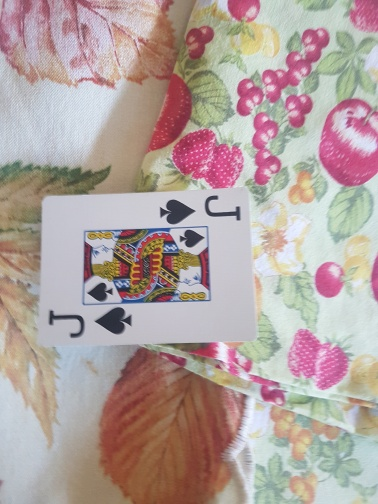jack: (40, 189, 258, 348)
